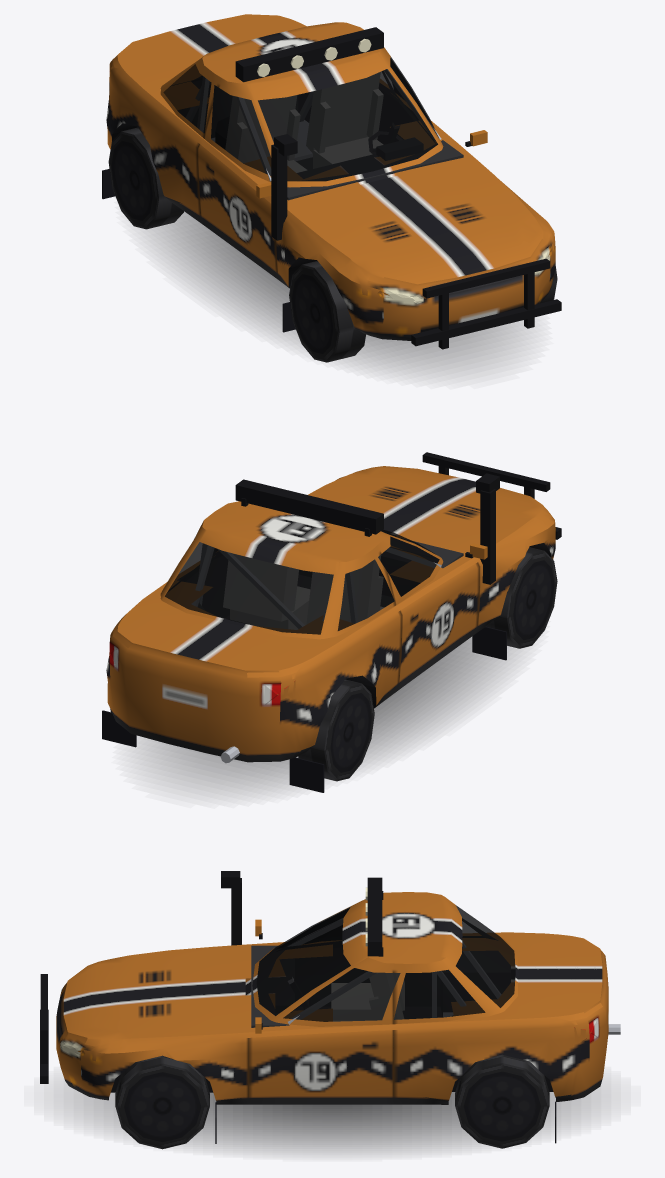
File: serrote.glb
The picture shows the model from 3 angles, top to bottom: view 1: azimuth 30°, elevation 25°; view 2: azimuth 150°, elevation 25°; view 3: azimuth 270°, elevation 25°; orthographic projection. The views are drawn at different scales.
Parts seen in each view (by area): view 1: Carroceria, Capo_malha, Interior, Sombra, Porta_D_malha, Tampa_malha, Roda_DD, Roda_TD, Porta_E_malha; view 2: Carroceria, Sombra, Interior, Capo_malha, Porta_D_malha, Tampa_malha, Roda_TD, Roda_DD; view 3: Carroceria, Sombra, Porta_E_malha, Capo_malha, Interior, Roda_TE, Roda_DE, Tampa_malha, Porta_D_malha.
Boxes of the visible parts, x1,y1,x2,y2 form: Carroceria: (102,22,561,349); Capo_malha: (294,165,550,283); Interior: (178,69,463,200); Sombra: (146,212,526,374); Porta_D_malha: (197,78,276,272); Tampa_malha: (113,14,306,77); Roda_DD: (289,261,365,362); Roda_TD: (108,127,183,229); Porta_E_malha: (378,47,487,147); Carroceria: (102,452,561,792); Sombra: (138,637,518,793); Interior: (169,534,463,629); Capo_malha: (312,466,549,549); Porta_D_malha: (377,532,487,682); Tampa_malha: (113,609,315,677); Roda_TD: (298,679,374,781); Roda_DD: (486,547,557,648); Carroceria: (40,871,620,1143); Sombra: (63,1083,601,1153); Porta_E_malha: (248,957,394,1097); Capo_malha: (68,947,234,1046); Interior: (251,918,510,1027); Roda_TE: (455,1054,549,1148); Roda_DE: (115,1055,209,1149); Tampa_malha: (533,934,602,1020); Porta_D_malha: (255,899,364,948).
Size of the model in its own units: 2.64 by 1.72 by 5.25.
14 materials, 5 textured.
